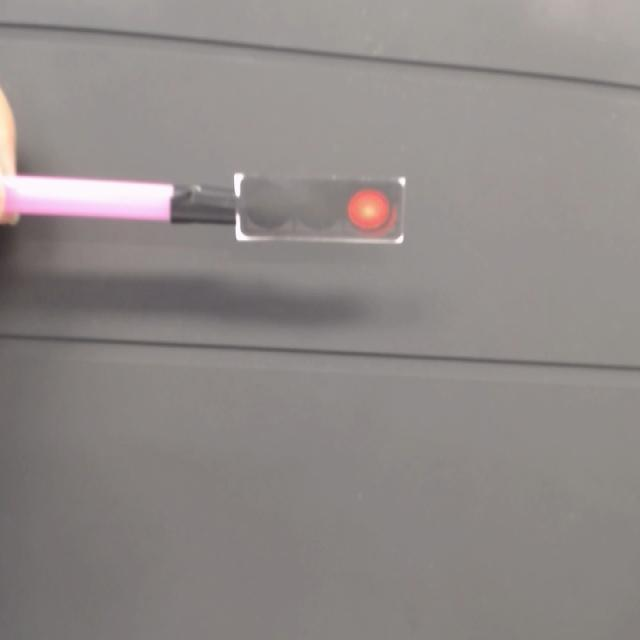traffic light: (240, 175, 407, 243)
